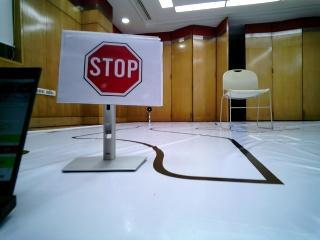stop: (66, 35, 153, 104)
